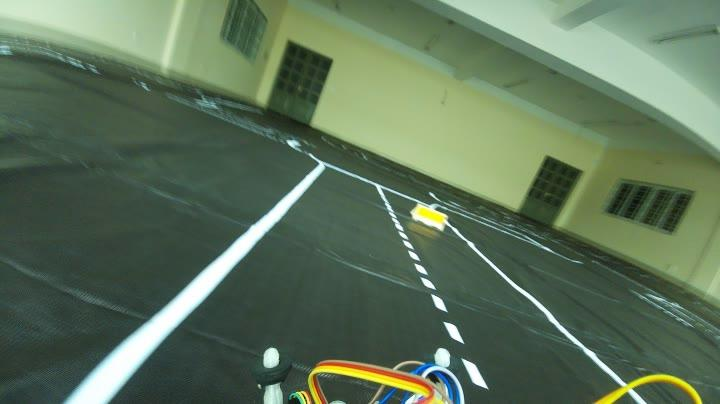roadblock: (403, 197, 457, 237)
